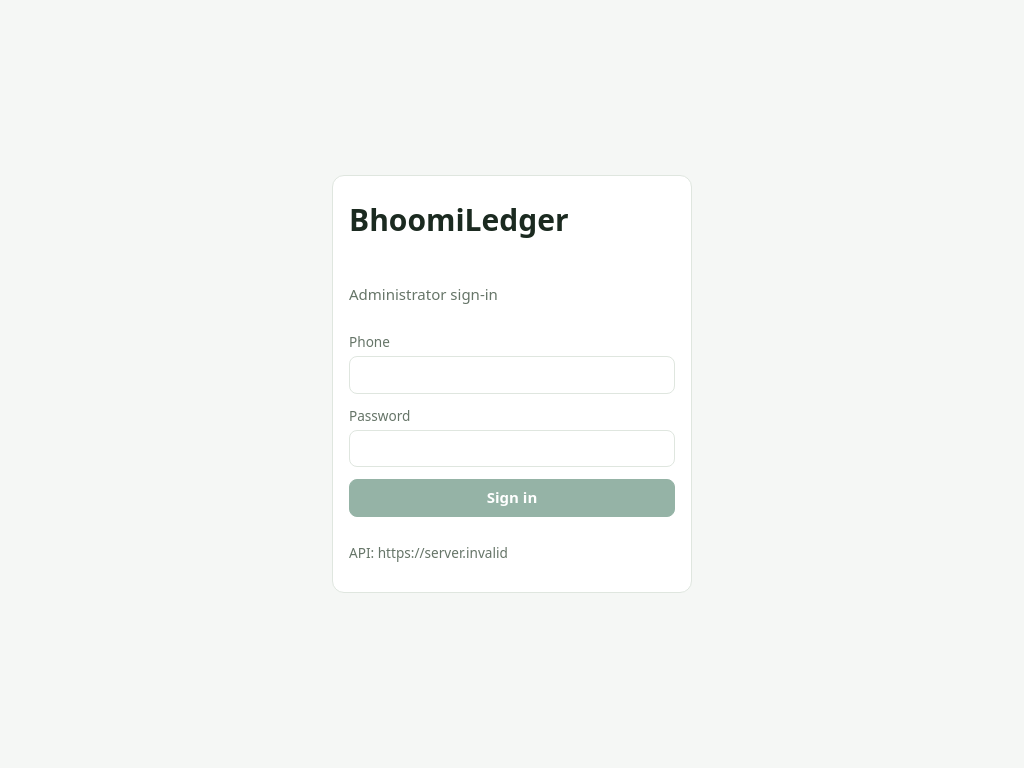
Test: admin panel › admin logs in, sees stats, and verify-all lists the mismatch first
Type "0000000000" into the field labelled "Phone" at (512, 375), box [349,356,675,394]
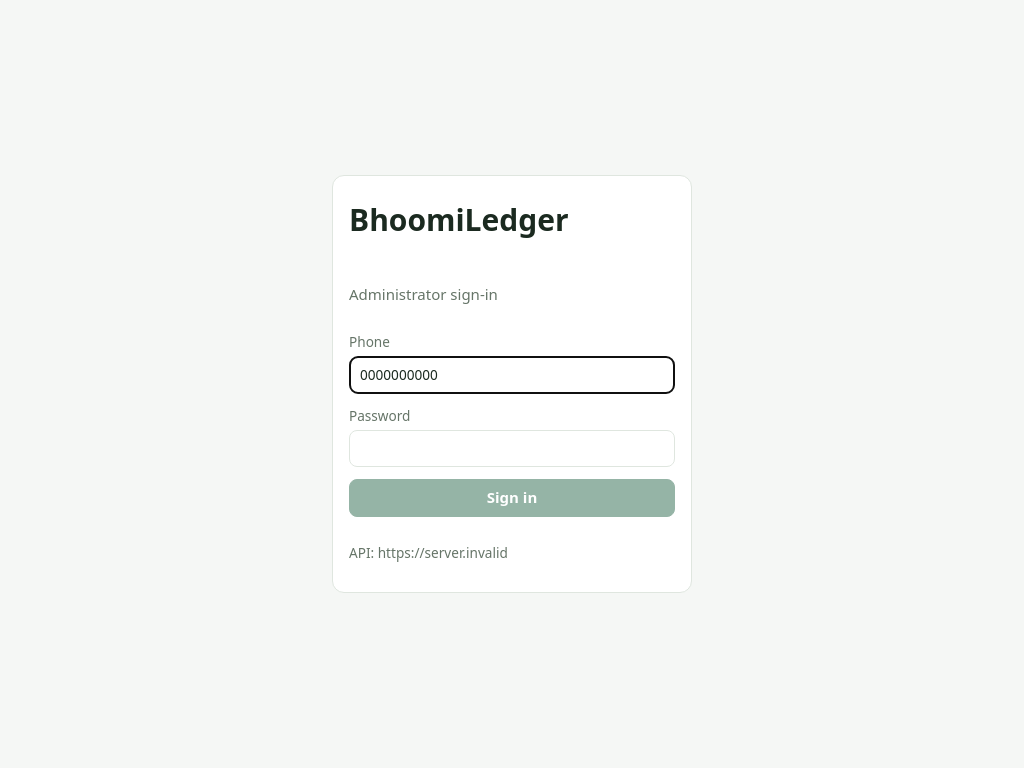
Type "admin123" into the password field labelled "Password" at (512, 448), box [349,430,675,467]
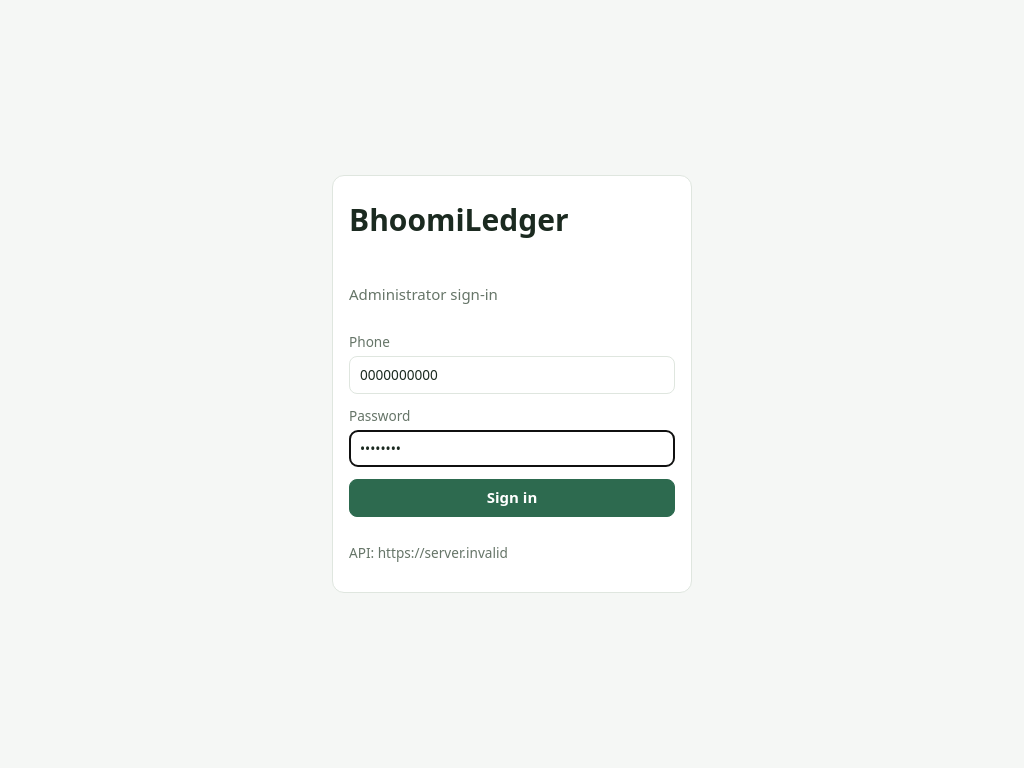
Click the button "Sign in" at (512, 498), box [349,479,675,517]
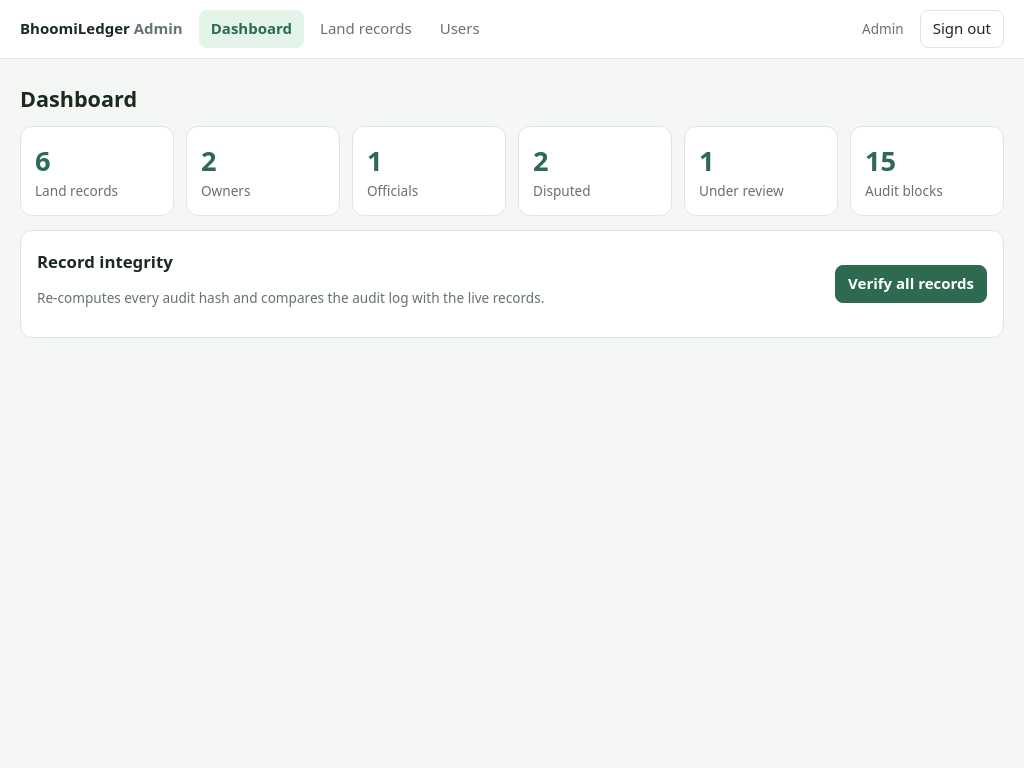
expect the button "Land records" is shown: met, box [308,10,424,48]
expect the text "15" is shown: met, box [865,142,896,179]
Click the button "Verify all records" at (911, 284), box [835,265,987,303]
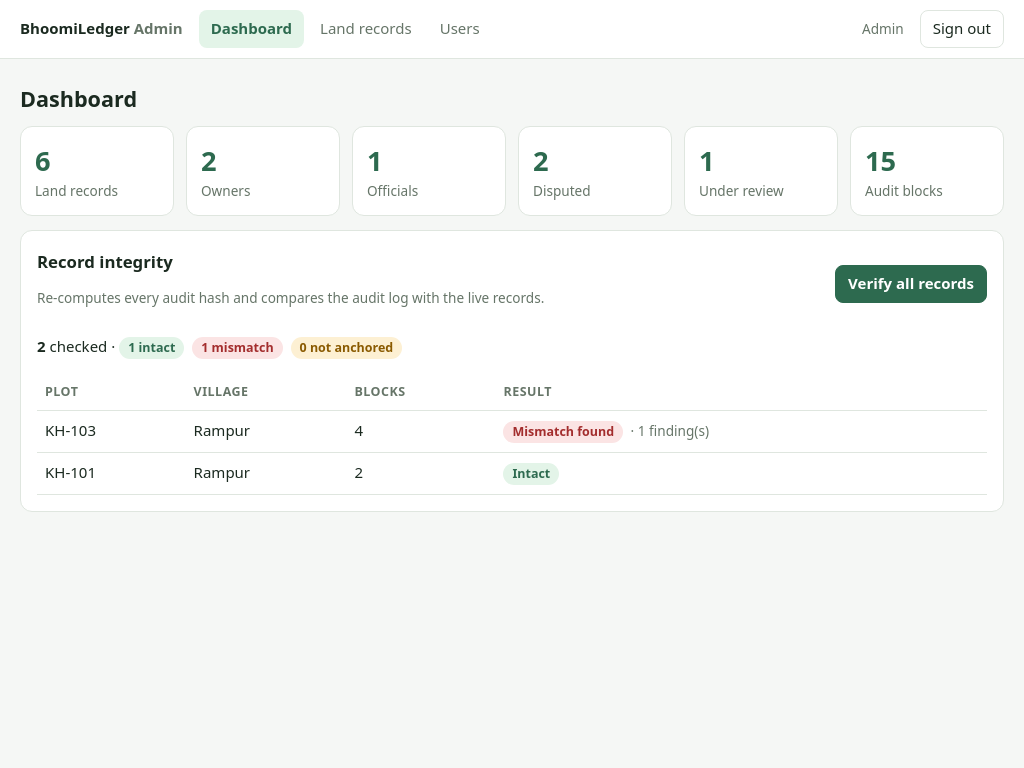
expect the element with test id "verify-summary" shows "2 checked": met, box [37,336,402,359]
expect the element with test id "verify-summary" shows "1 mismatch": met, box [37,336,402,359]
expect the text "KH-103" is shown: met, box [37,411,186,453]
